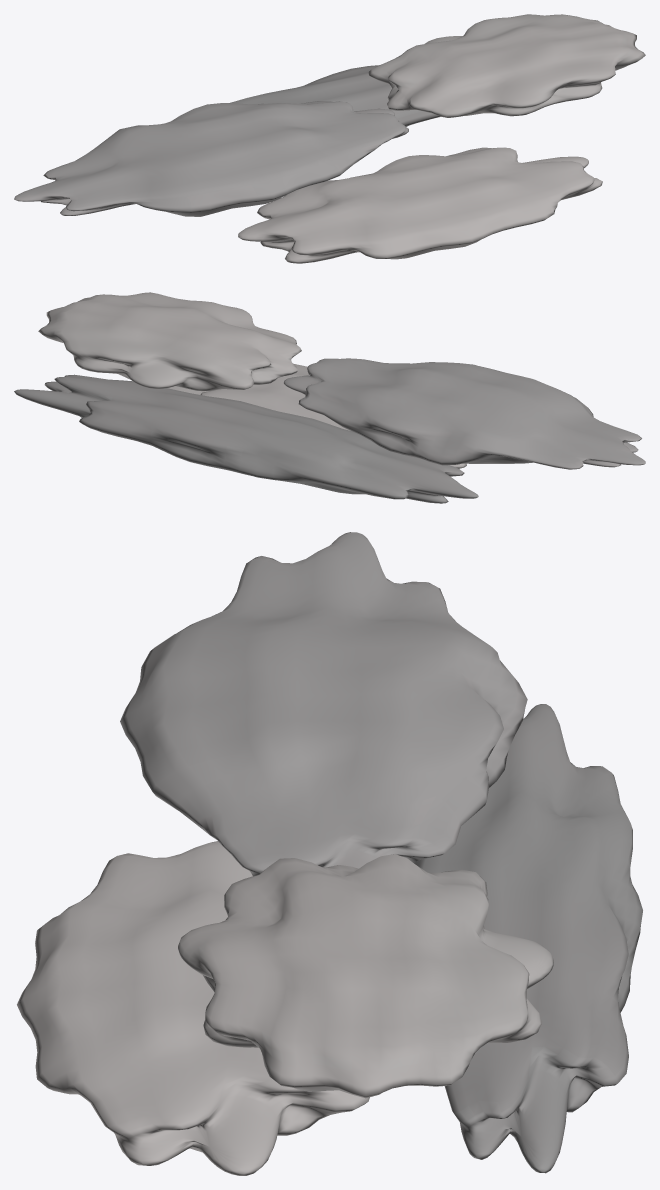
Rendered from Clouds.fbx.
3 views of the same model, one above another, from view 1: azimuth 30°, elevation 25°; view 2: azimuth 150°, elevation 25°; view 3: azimuth 270°, elevation 25° (orthographic). The views are drawn at different scales.
Visible parts, largest first — view 1: group19_pasted__pSphere6; view 2: group19_pasted__pSphere6; view 3: group19_pasted__pSphere6.
Boxes of the visible parts, x1=… form: group19_pasted__pSphere6: x1=14, y1=14, x2=645, y2=263; group19_pasted__pSphere6: x1=14, y1=292, x2=645, y2=503; group19_pasted__pSphere6: x1=17, y1=532, x2=642, y2=1175.
Size of the model in its own units: 11.69 by 2.11 by 5.32.
